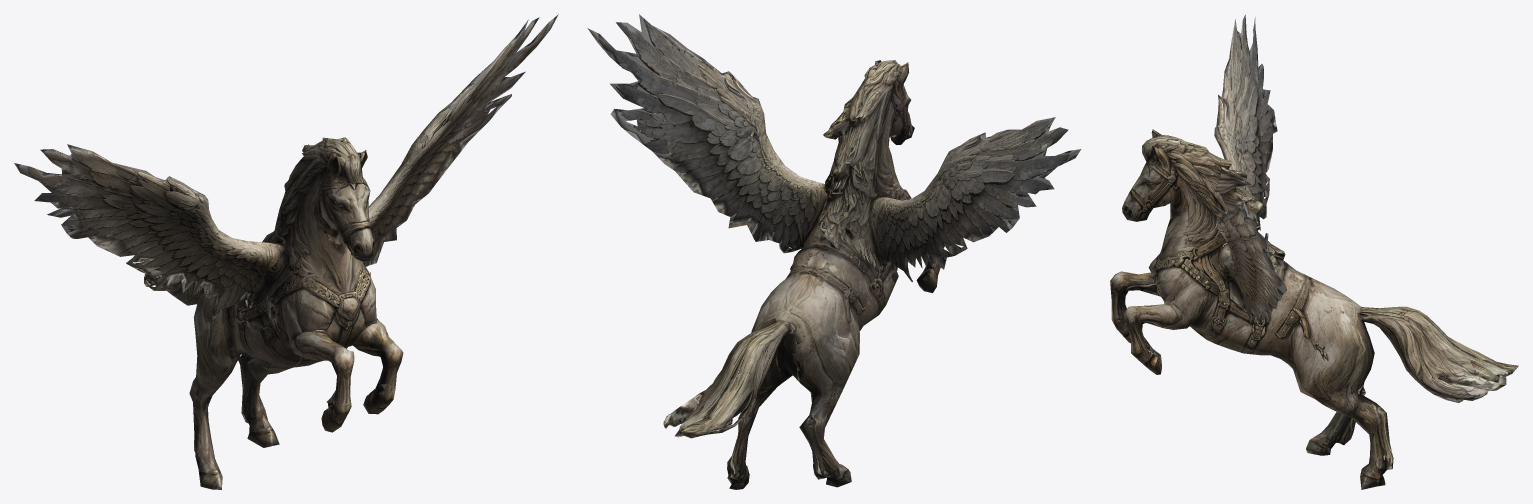
File: Pegasus.glb
3 renders of one model, left to right at view 1: azimuth 30°, elevation 25°; view 2: azimuth 150°, elevation 25°; view 3: azimuth 270°, elevation 25°, orthographic. The views are drawn at different scales.
Visible parts, largest first — view 1: texture_mapping; view 2: texture_mapping; view 3: texture_mapping.
Part boxes in pixels (bbox=[...]): texture_mapping: bbox=[14, 14, 558, 489]; texture_mapping: bbox=[587, 14, 1081, 489]; texture_mapping: bbox=[1110, 14, 1518, 489].
Bounding box in the file's own units: 1.03 × 0.7731 × 0.7932.
Materials: 1 (1 with a texture image).
